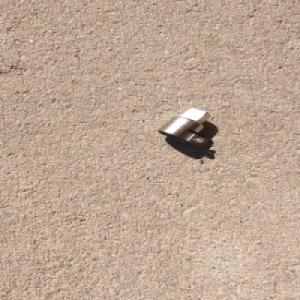MetalPart: (156, 107, 213, 148)
